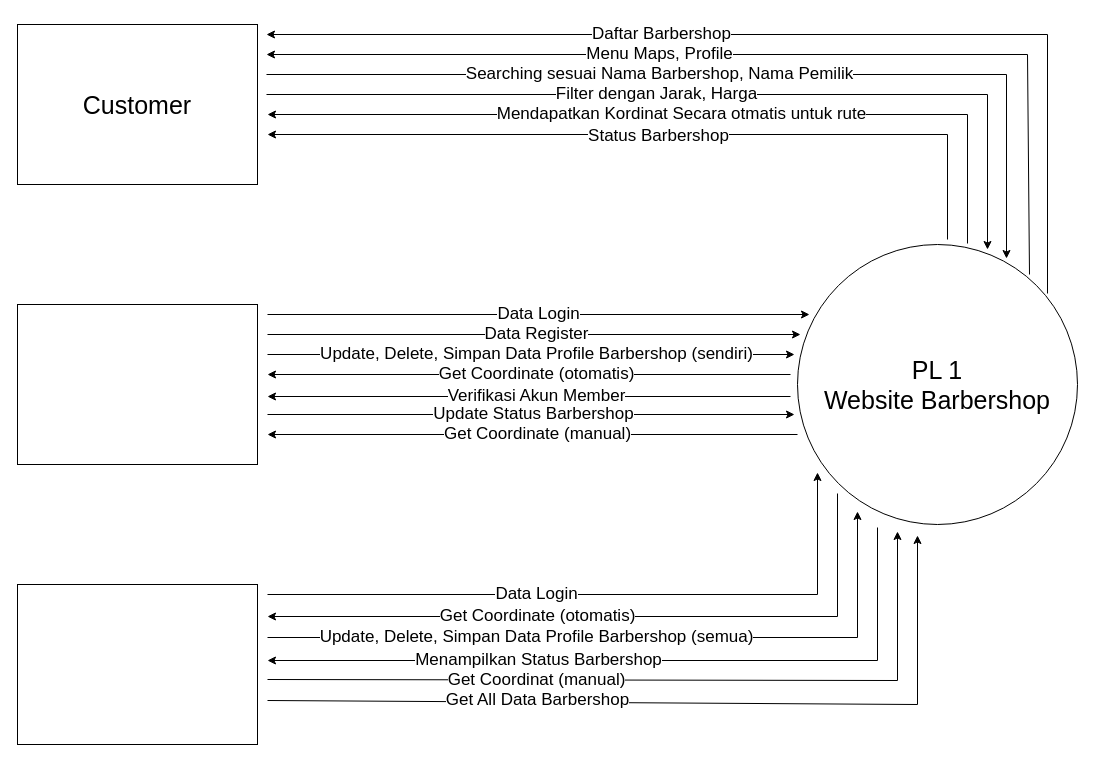
Some shapes in this 1095 by 762 pixel diagram are drawn without their labels. Each missing label, with the centre of its shape:
"Adminstrator" goes at pixel 137 664.
"Member" goes at pixel 137 384.
